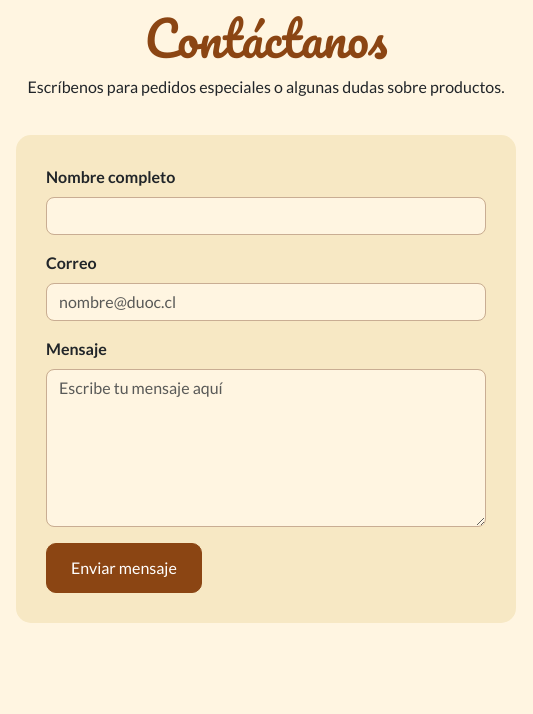
it: Página Contacto › envía el mensaje y limpia el formulario
Type "Ana Soto" into the field labelled "Nombre completo".
click(266, 216); type("Ana Soto")  # box left=46, top=197, right=486, bottom=235
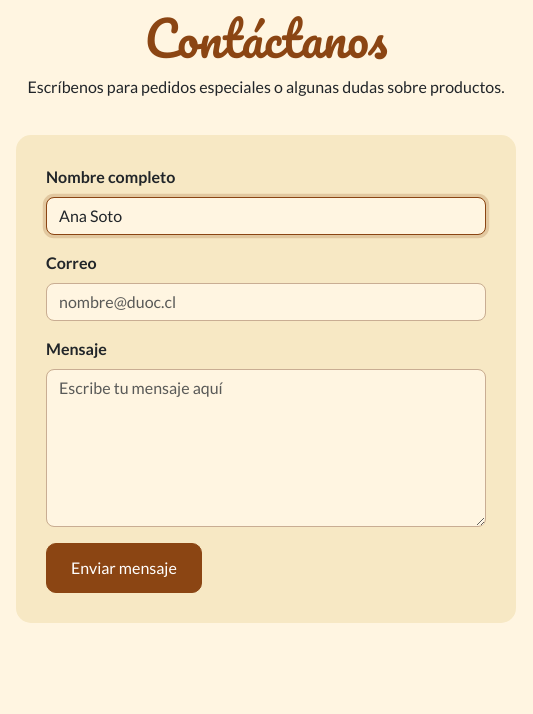
Type "Quiero una torta de boda" into the text box labelled "Mensaje".
click(266, 448); type("Quiero una torta de boda")  # box left=46, top=369, right=486, bottom=527
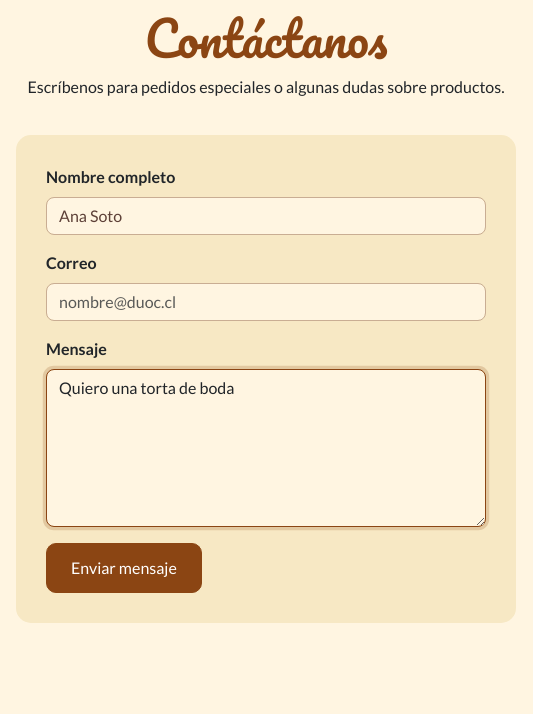
Click the button "Enviar mensaje".
click(124, 568)  # box left=46, top=543, right=202, bottom=593
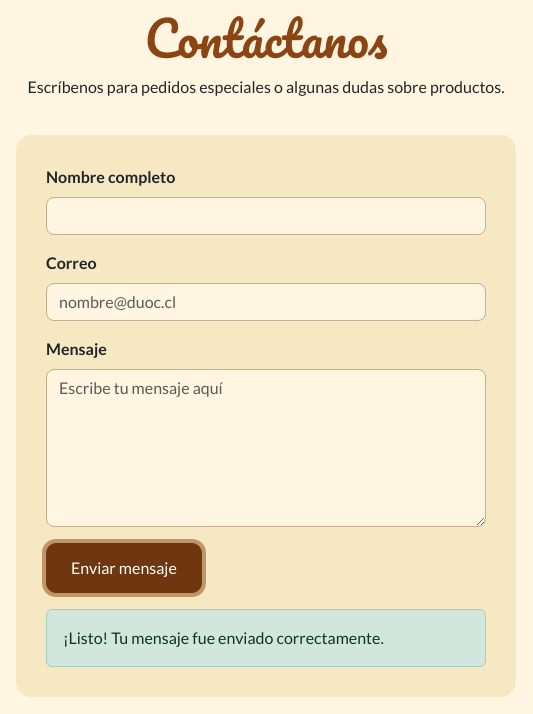
Result: the message shows "Tu mensaje fue enviado correctamente." at left=63, top=628, right=384, bottom=647
Result: the field labelled "Nombre completo" is empty at left=46, top=197, right=486, bottom=235
Result: the text box labelled "Mensaje" is empty at left=46, top=369, right=486, bottom=527
